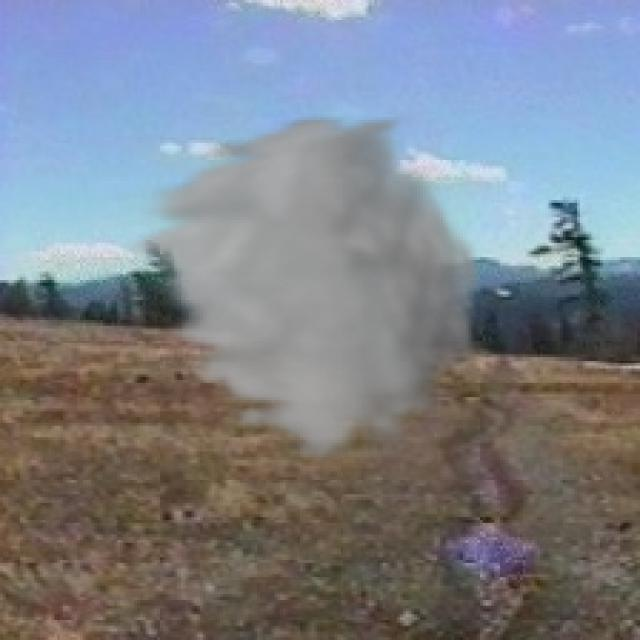smoke: (117, 111, 489, 466)
